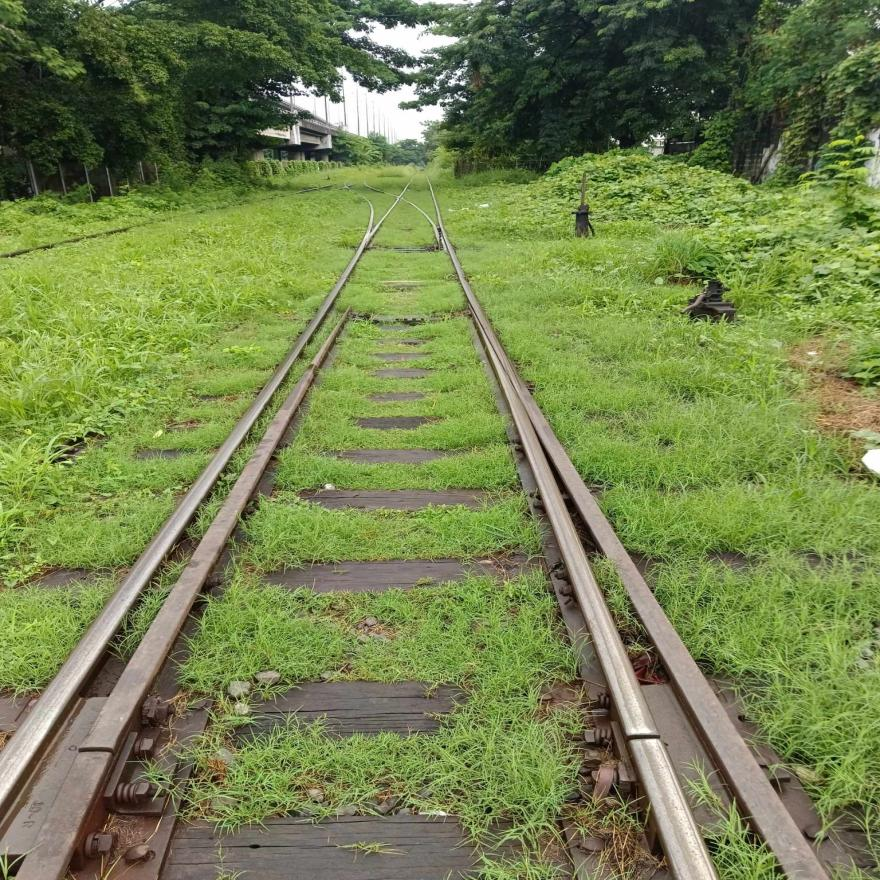railway-gap: (56, 719, 138, 778), (607, 707, 680, 766)
